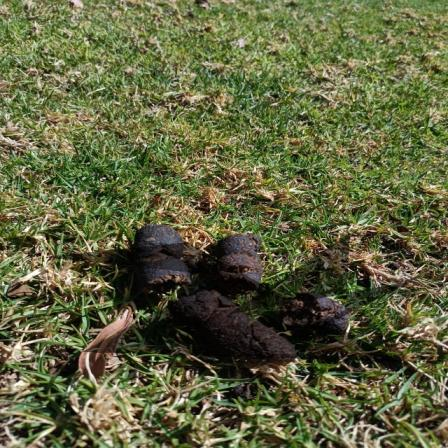dog-poop: (116, 223, 341, 363)
